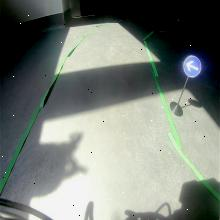left: (182, 52, 201, 78)
